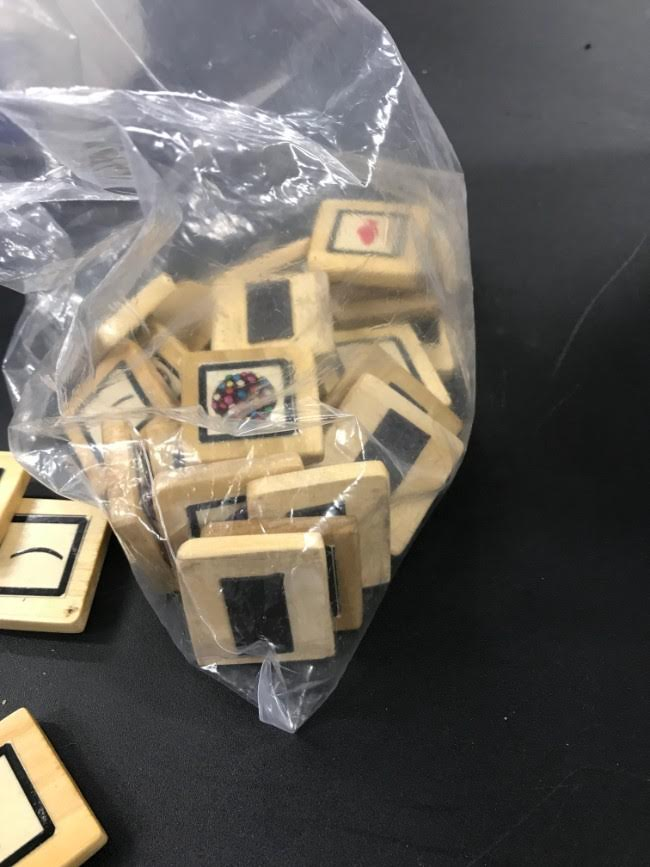cookie: (192, 357, 301, 443)
